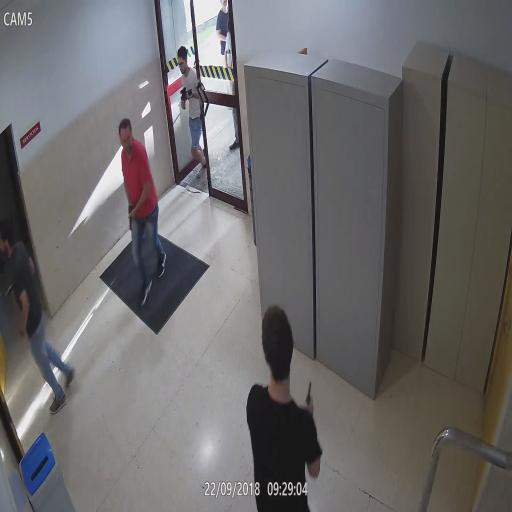Handgun: (303, 378, 316, 419), (126, 202, 135, 230), (4, 280, 16, 299)
